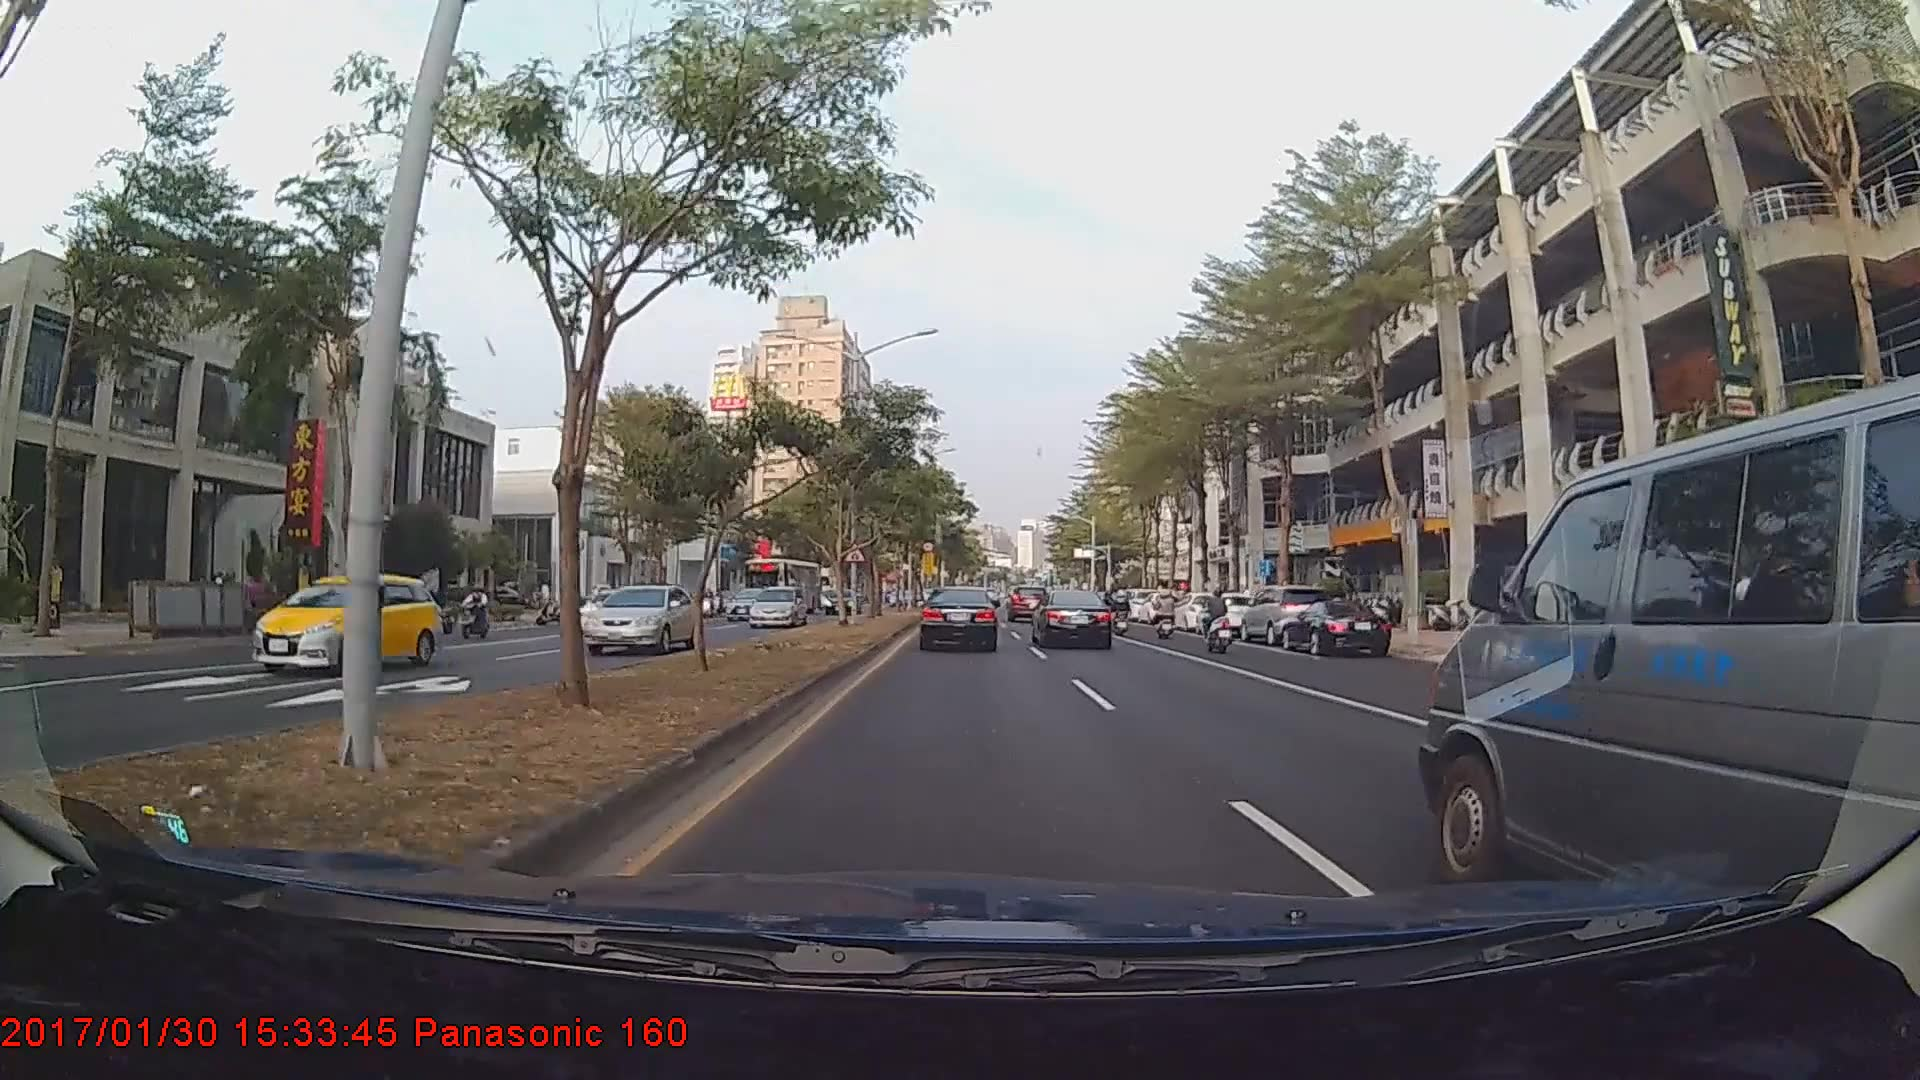rider: (1198, 586, 1237, 658), (458, 581, 496, 643), (1147, 584, 1179, 642), (1109, 586, 1132, 636)
vehicle: (1431, 398, 1911, 904), (252, 570, 442, 675), (585, 582, 700, 653), (1242, 585, 1336, 649), (1280, 600, 1391, 653), (918, 586, 999, 652), (739, 554, 821, 619), (1033, 588, 1115, 650), (1194, 589, 1258, 634), (744, 583, 807, 628), (1005, 584, 1050, 622), (721, 586, 769, 620), (819, 584, 860, 613)
